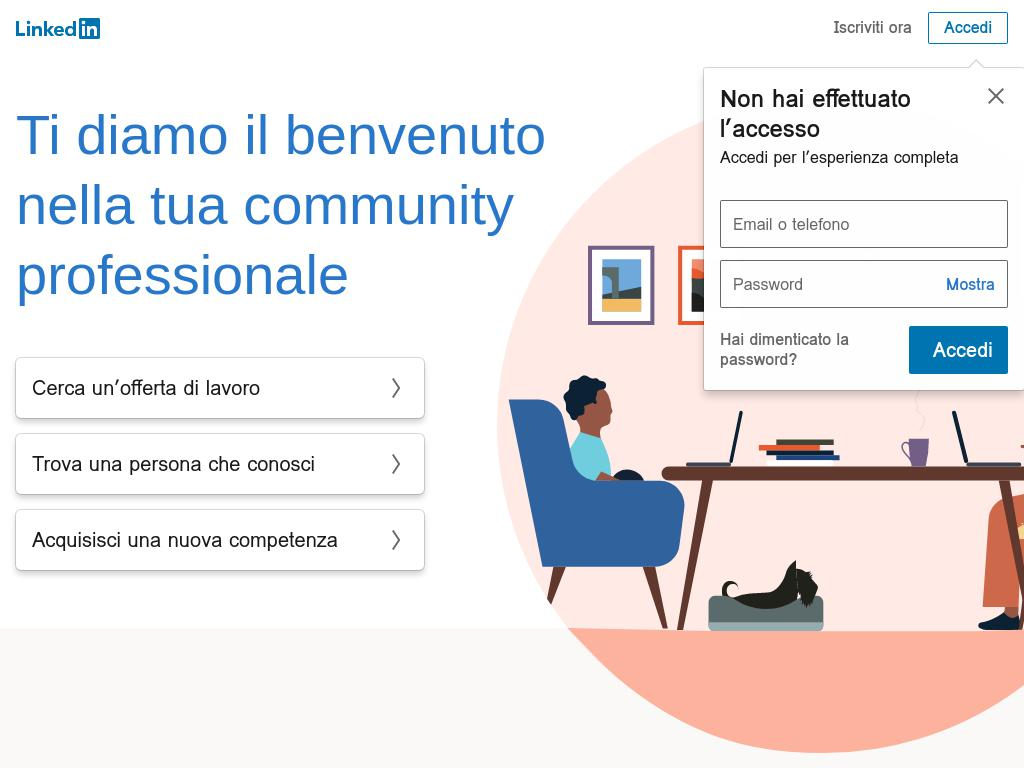button: (16, 358, 424, 418), (16, 434, 424, 494), (16, 510, 424, 570), (720, 330, 901, 370), (908, 326, 1009, 374), (933, 260, 1008, 310), (825, 12, 920, 44), (927, 12, 1008, 44), (972, 72, 1020, 120), (16, 17, 100, 39)
field: (720, 200, 1008, 248), (720, 260, 934, 308)
heading: (16, 100, 562, 310), (720, 84, 1008, 144), (720, 148, 1008, 168)
image: (474, 98, 1024, 768), (16, 17, 100, 39), (984, 84, 1008, 108), (384, 376, 408, 400), (384, 452, 408, 476), (384, 528, 408, 552)
label: (720, 200, 1008, 248), (720, 260, 1008, 308)
text: (32, 526, 338, 554), (32, 450, 316, 478), (32, 374, 261, 402)
